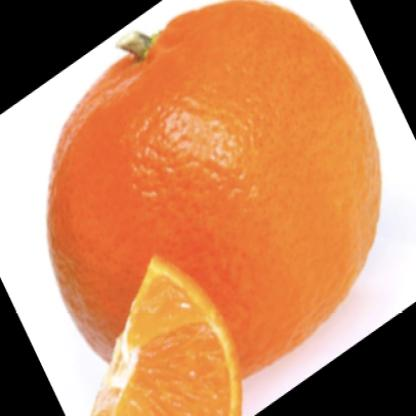fresh: (50, 5, 380, 378)
